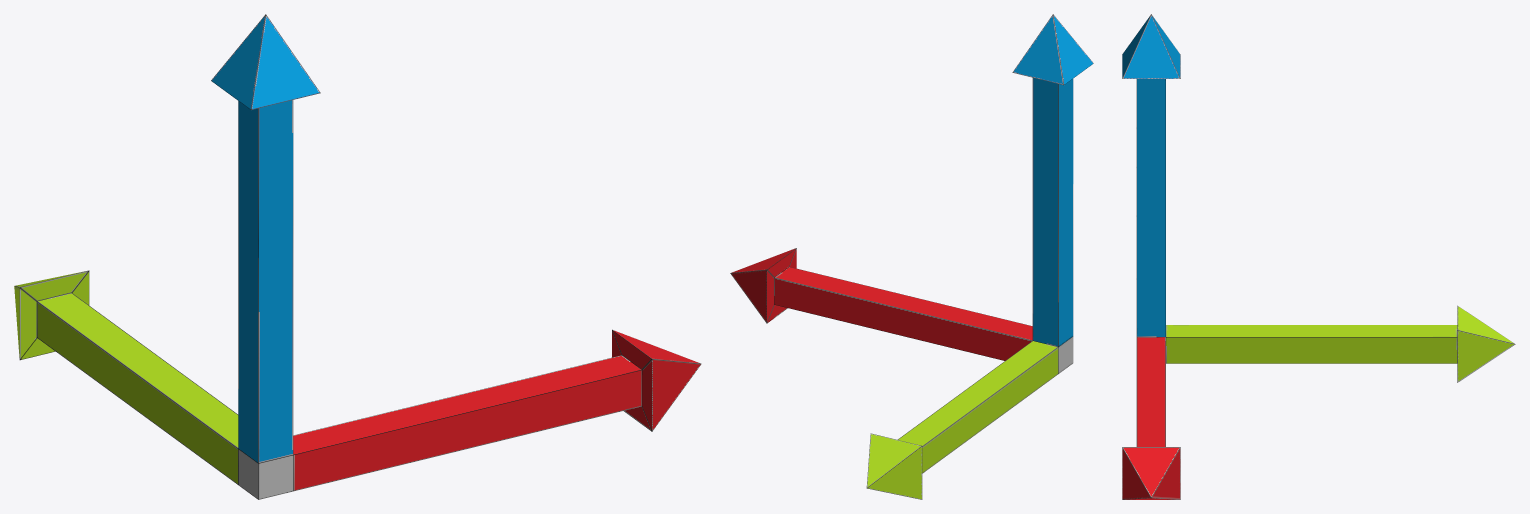
Rendered from axis.fbx.
3 renders of one model, left to right at view 1: azimuth 30°, elevation 25°; view 2: azimuth 150°, elevation 25°; view 3: azimuth 270°, elevation 25°, orthographic. The views are drawn at different scales.
Visible parts, largest first — view 1: Cube.003; view 2: Cube.003; view 3: Cube.003.
Part boxes in pixels (x1=…): Cube.003: x1=14, y1=14, x2=701, y2=499; Cube.003: x1=730, y1=14, x2=1093, y2=499; Cube.003: x1=1122, y1=14, x2=1515, y2=499.
Size of the model in its own units: 2160 by 2160 by 2160.
Materials: 1 (1 with a texture image).
